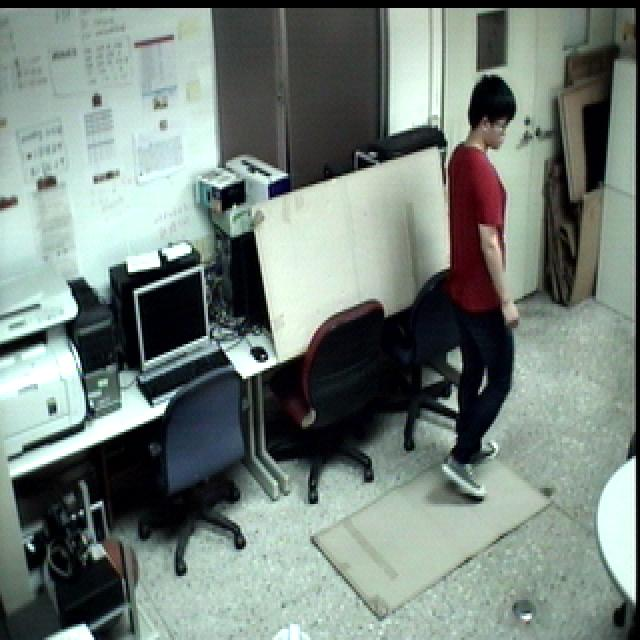stand: (435, 69, 536, 505)
